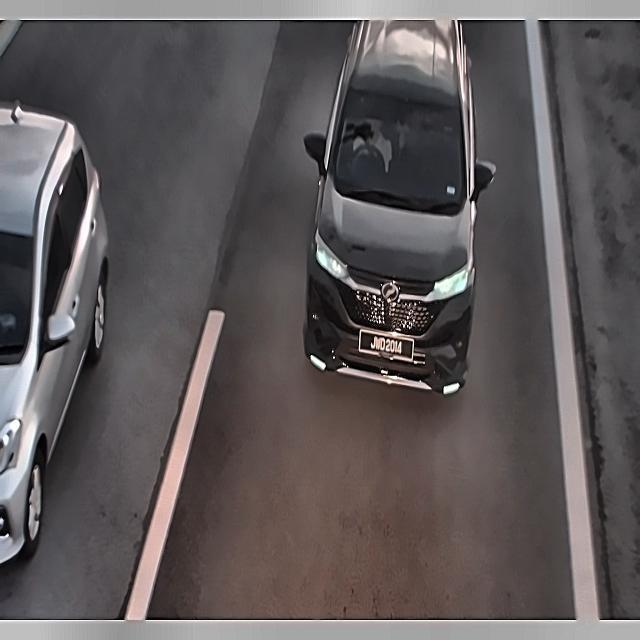car: (358, 327, 417, 366)
